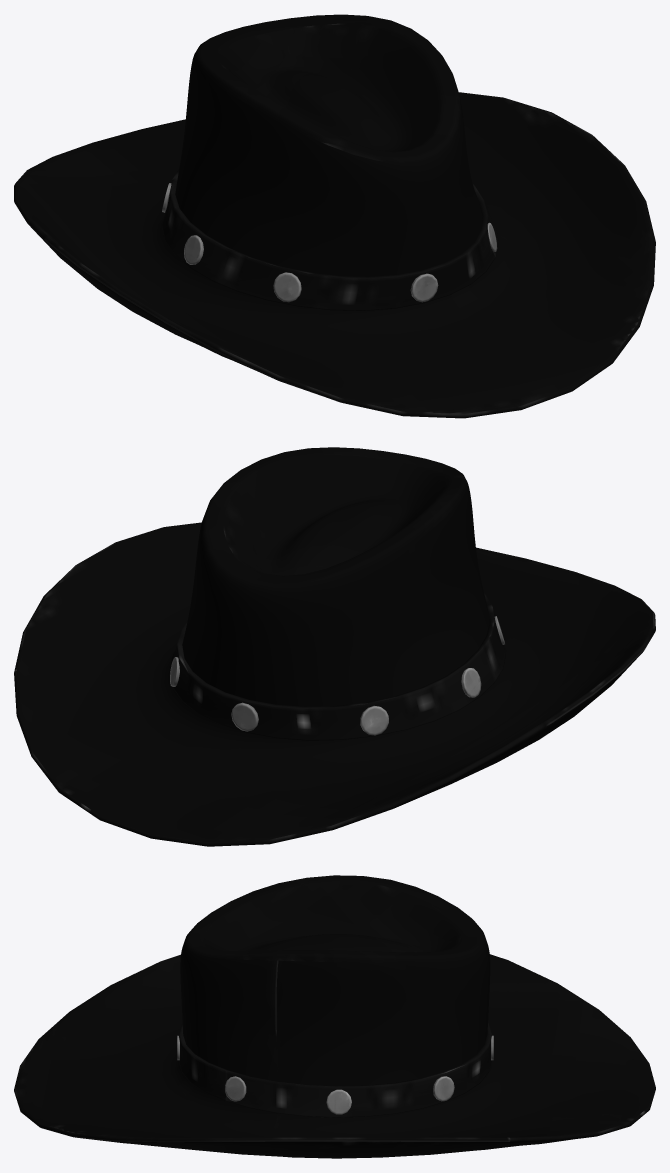
Rendered from Hat4-1.glb.
3 renders of one model, top to bottom at view 1: azimuth 30°, elevation 25°; view 2: azimuth 150°, elevation 25°; view 3: azimuth 270°, elevation 25°, orthographic. The views are drawn at different scales.
Visible parts, largest first — view 1: Hat; view 2: Hat; view 3: Hat.
Boxes of the visible parts, <box> form: Hat: <box>14,14,655,418</box>; Hat: <box>14,447,655,846</box>; Hat: <box>14,875,655,1158</box>.
Size of the model in its own units: 4.56 by 1.77 by 5.79.
Materials: 1 (1 with a texture image).
